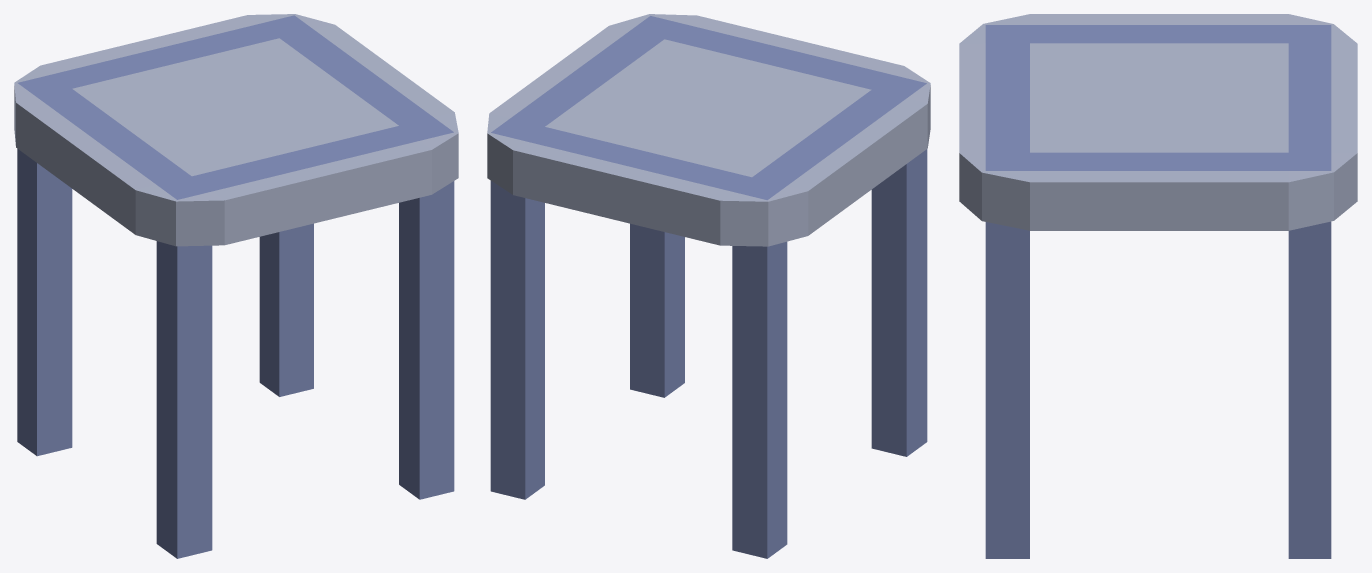
Rendered from taburete.fbx.
3 renders of one model, left to right at view 1: azimuth 30°, elevation 25°; view 2: azimuth 150°, elevation 25°; view 3: azimuth 270°, elevation 25°, orthographic. The views are drawn at different scales.
Parts seen in each view (by area): view 1: Taburete; view 2: Taburete; view 3: Taburete.
Part boxes in pixels (x1,y1,x2,y2): Taburete: (14,14,458,558); Taburete: (487,14,930,558); Taburete: (959,14,1357,558).
Size of the model in its own units: 154 by 165 by 154.
